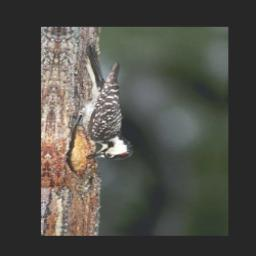Woodpecker: (65, 42, 146, 164)
